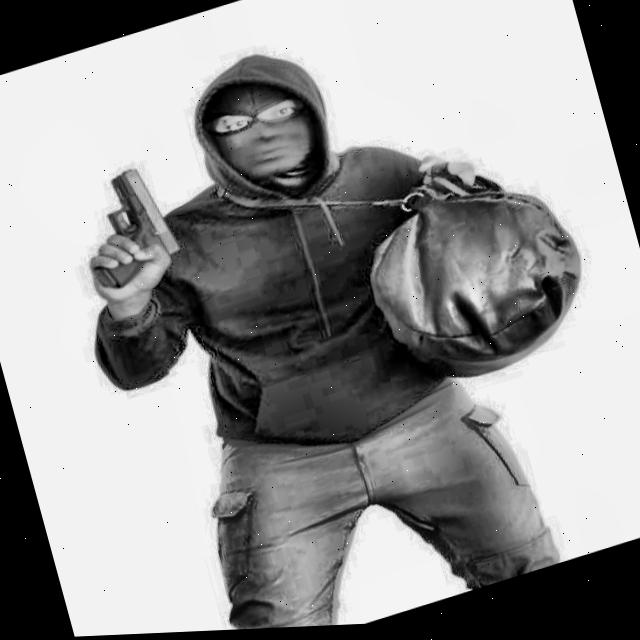pistol: (59, 143, 192, 305)
robbery: (26, 0, 640, 639)
